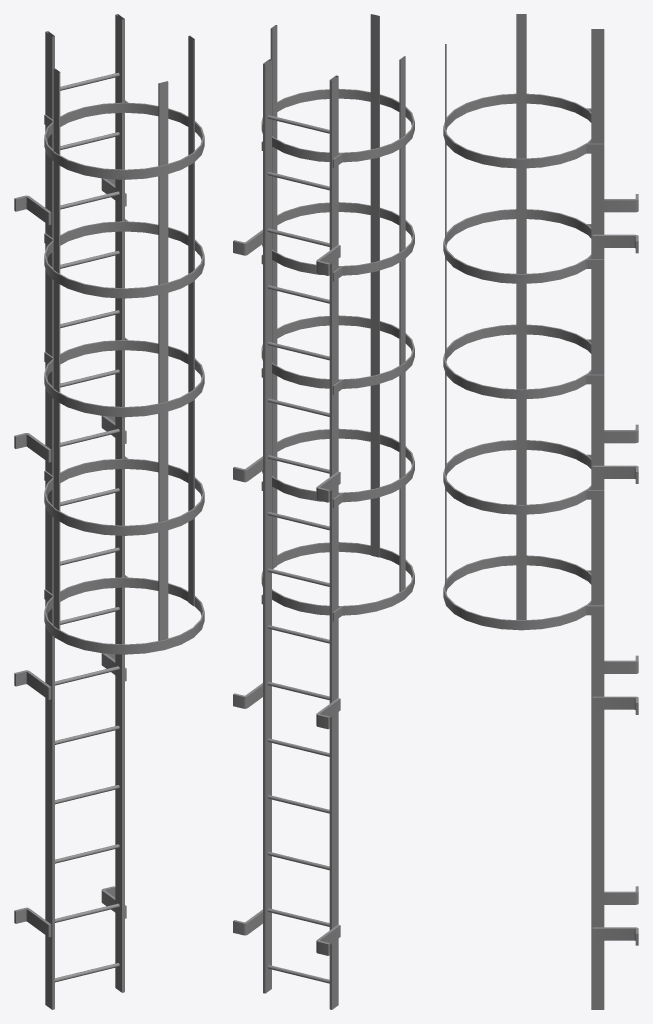
The model's file is SM06_Building_Ladder_01_End.fbx.
The picture shows the model from 3 angles, left to right: view 1: azimuth 30°, elevation 25°; view 2: azimuth 150°, elevation 25°; view 3: azimuth 270°, elevation 25°; orthographic projection. The views are drawn at different scales.
Parts seen in each view (by area): view 1: SM06_Building_Ladder_01_End; view 2: SM06_Building_Ladder_01_End; view 3: SM06_Building_Ladder_01_End.
Part boxes in pixels (box(x1,y1,x2,y2)): SM06_Building_Ladder_01_End: box(14, 14, 204, 1009); SM06_Building_Ladder_01_End: box(233, 14, 414, 1009); SM06_Building_Ladder_01_End: box(443, 14, 638, 1009).
Size of the model in its own units: 0.7661 by 5.12 by 0.9581.
